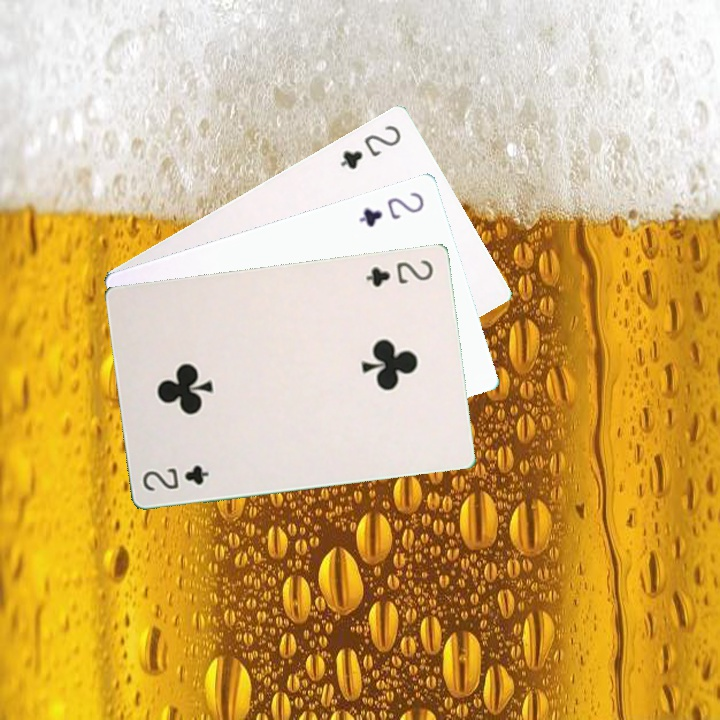2c: (336, 120, 404, 172), (354, 188, 427, 230), (361, 255, 436, 289), (138, 461, 212, 494)
